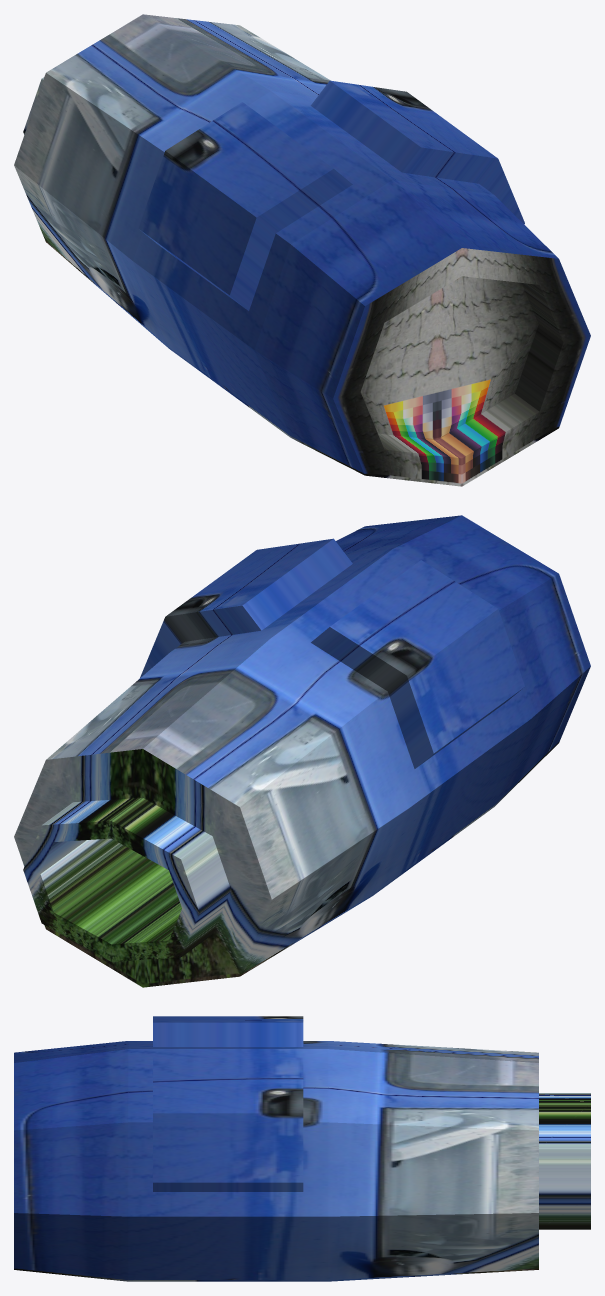
3 views of the same model, one above another, from view 1: azimuth 30°, elevation 25°; view 2: azimuth 150°, elevation 25°; view 3: azimuth 270°, elevation 25° (orthographic). The views are drawn at different scales.
Parts seen in each view (by area): view 1: Engine-3.003_Cube.039; view 2: Engine-3.003_Cube.039; view 3: Engine-3.003_Cube.039.
Part boxes in pixels (x1,y1,x2,y2): Engine-3.003_Cube.039: (14, 14, 590, 486); Engine-3.003_Cube.039: (14, 515, 590, 987); Engine-3.003_Cube.039: (14, 1016, 590, 1281).
Bounding box in the file's own units: 5.08 × 4.66 × 10.44.
